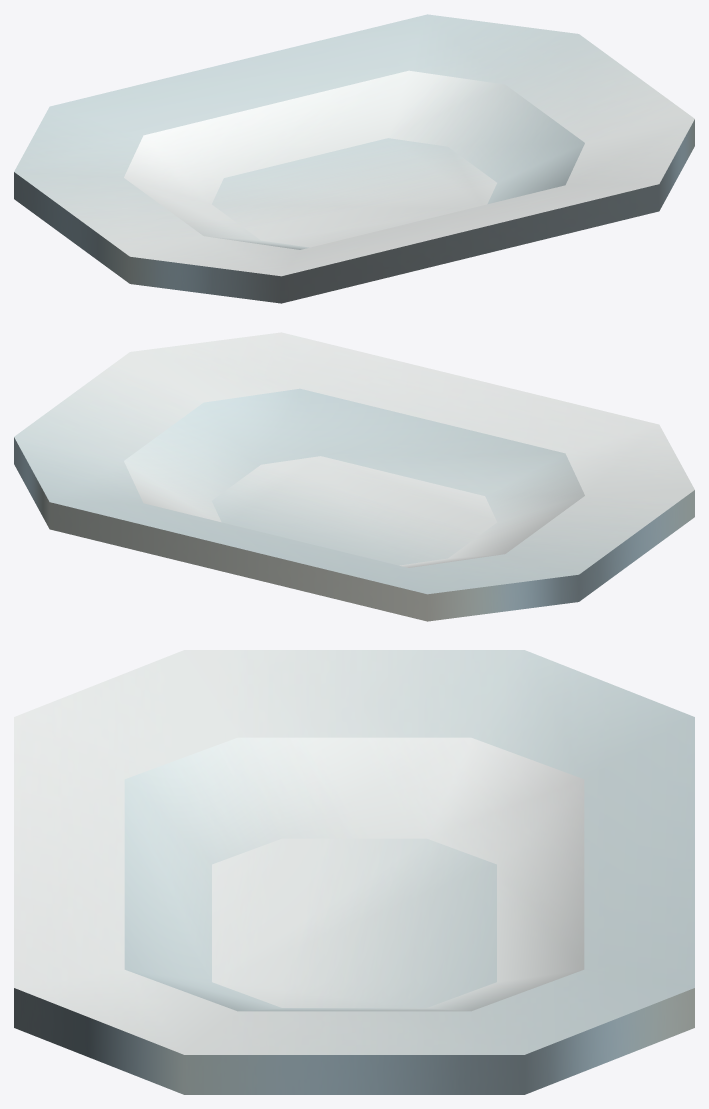
The model's file is plate_silver_oval.fbx.
3 renders of one model, top to bottom at view 1: azimuth 30°, elevation 25°; view 2: azimuth 150°, elevation 25°; view 3: azimuth 270°, elevation 25°, orthographic. The views are drawn at different scales.
Visible parts, largest first — view 1: plate_silver_oval; view 2: plate_silver_oval; view 3: plate_silver_oval.
Part boxes in pixels (x1,y1,x2,y2): plate_silver_oval: (14,14,694,303); plate_silver_oval: (14,332,694,621); plate_silver_oval: (14,650,694,1094).
Size of the model in its own units: 65.03 by 6.82 by 46.22.
